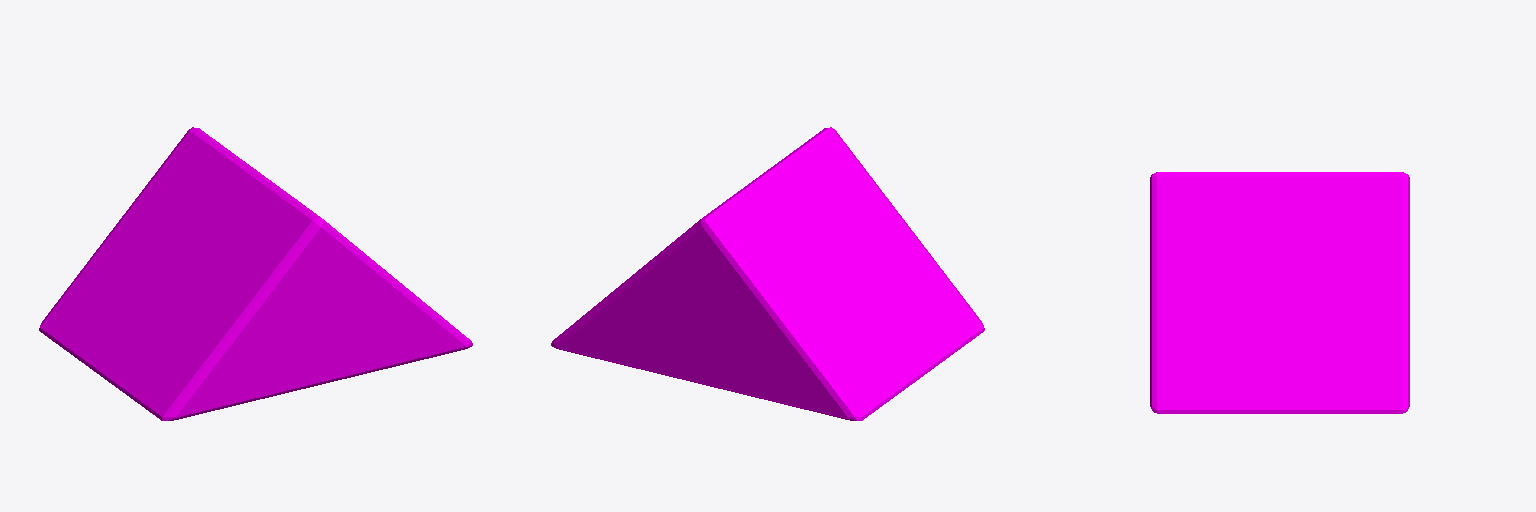
The model's file is prism.obj.
3 views of the same model, side by side, from view 1: azimuth 30°, elevation 25°; view 2: azimuth 150°, elevation 25°; view 3: azimuth 270°, elevation 25° (orthographic).
Visible parts, largest first — view 1: OnePrism; view 2: OnePrism; view 3: OnePrism.
Part boxes in pixels (left/top/right/bottom): OnePrism: left=39, top=127, right=472, bottom=420; OnePrism: left=551, top=127, right=984, bottom=420; OnePrism: left=1150, top=172, right=1409, bottom=413.
Size of the model in its own units: 0.9739 by 0.5 by 0.7071.